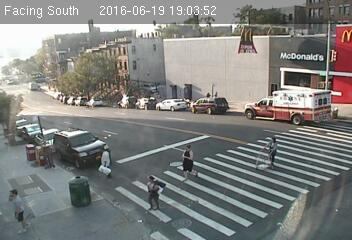neg: (114, 46, 146, 88), (262, 62, 291, 101), (305, 154, 333, 191), (51, 67, 77, 102), (222, 193, 248, 227), (220, 66, 244, 98), (67, 174, 91, 205), (20, 125, 43, 155), (307, 52, 328, 80), (225, 27, 245, 55), (301, 105, 321, 132), (101, 106, 121, 132), (158, 77, 176, 102), (146, 33, 157, 48)
pos: (2, 184, 36, 230), (140, 168, 173, 212), (91, 139, 121, 179), (258, 132, 287, 171), (177, 140, 204, 177)
